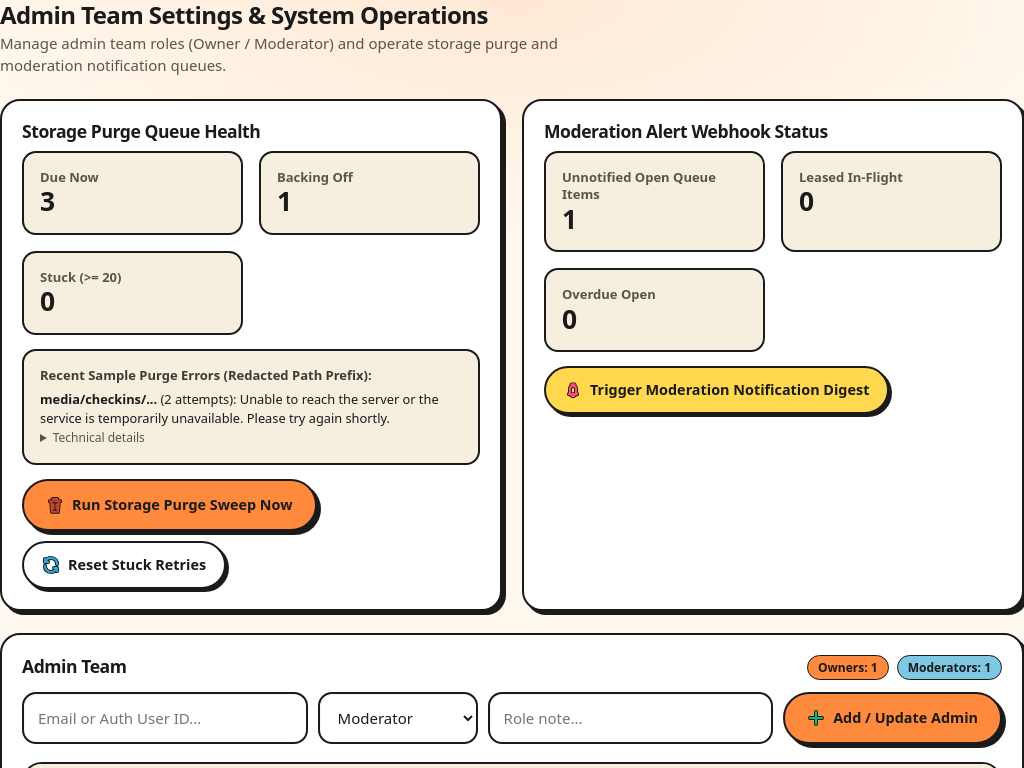
Test: JourneysPage, AuditPage, and SettingsPage › renders SettingsPage with SQL system_health (moderation_notifications & sample_errors), ops triggers, and admin removal confirmation modal
Later steps or results of the test are not shown.
Click the button "Run Storage Purge Sweep Now" at (169, 504), box left=22, top=478, right=316, bottom=530
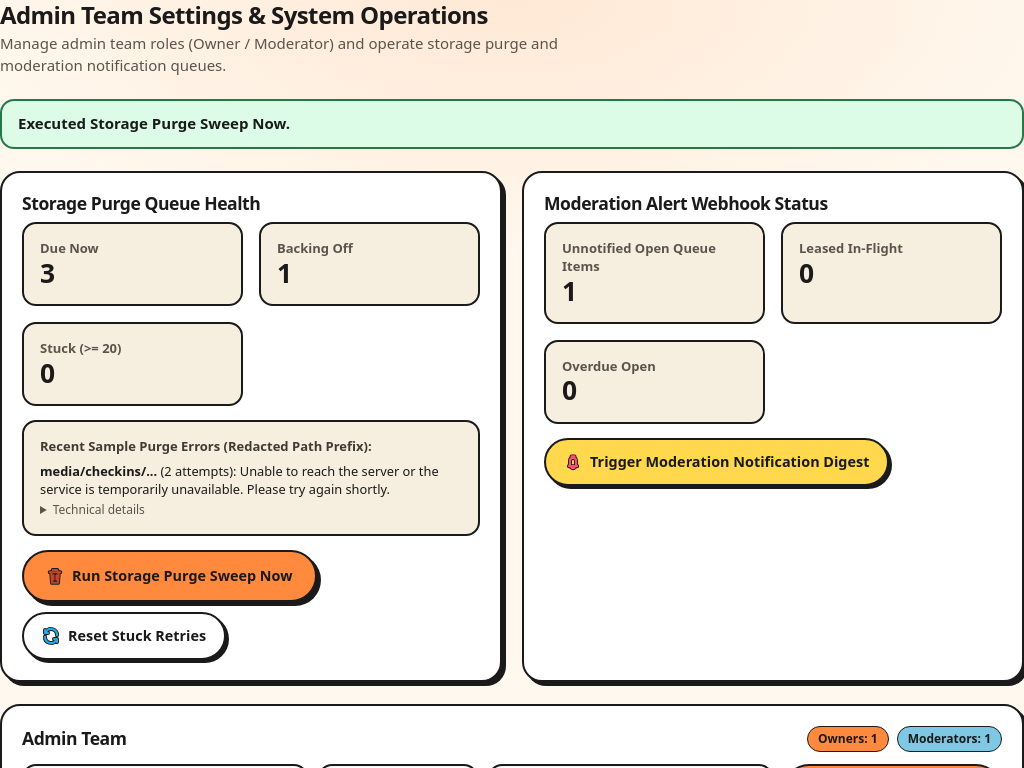
Click the button "Trigger Moderation Notification Digest" at (717, 462), box left=544, top=438, right=889, bottom=486
(page scrolled)
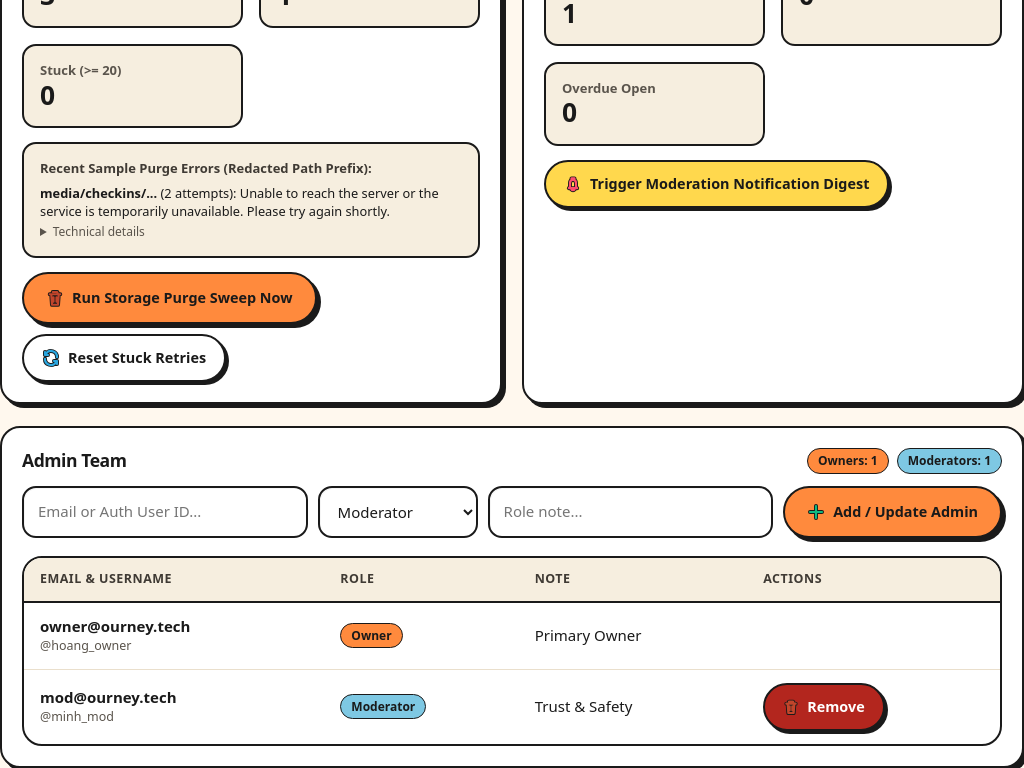
Click the button with aria-label "Remove mod@ourney.tech" at (824, 707), box left=763, top=683, right=885, bottom=731
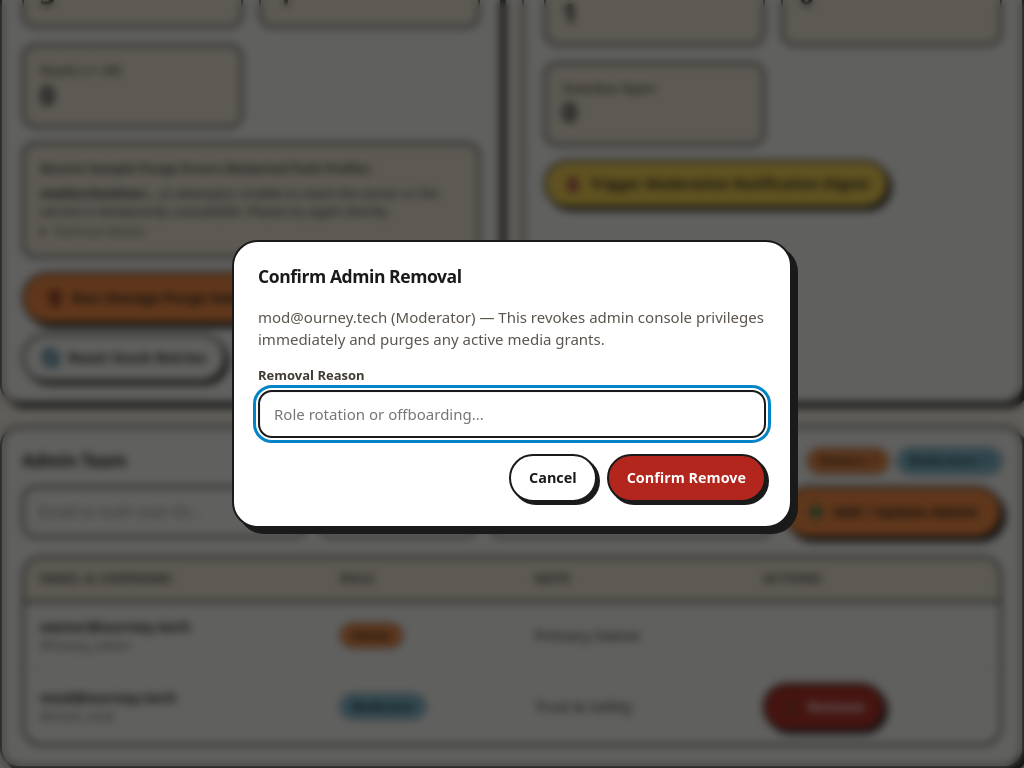
Result: the dialog is shown
